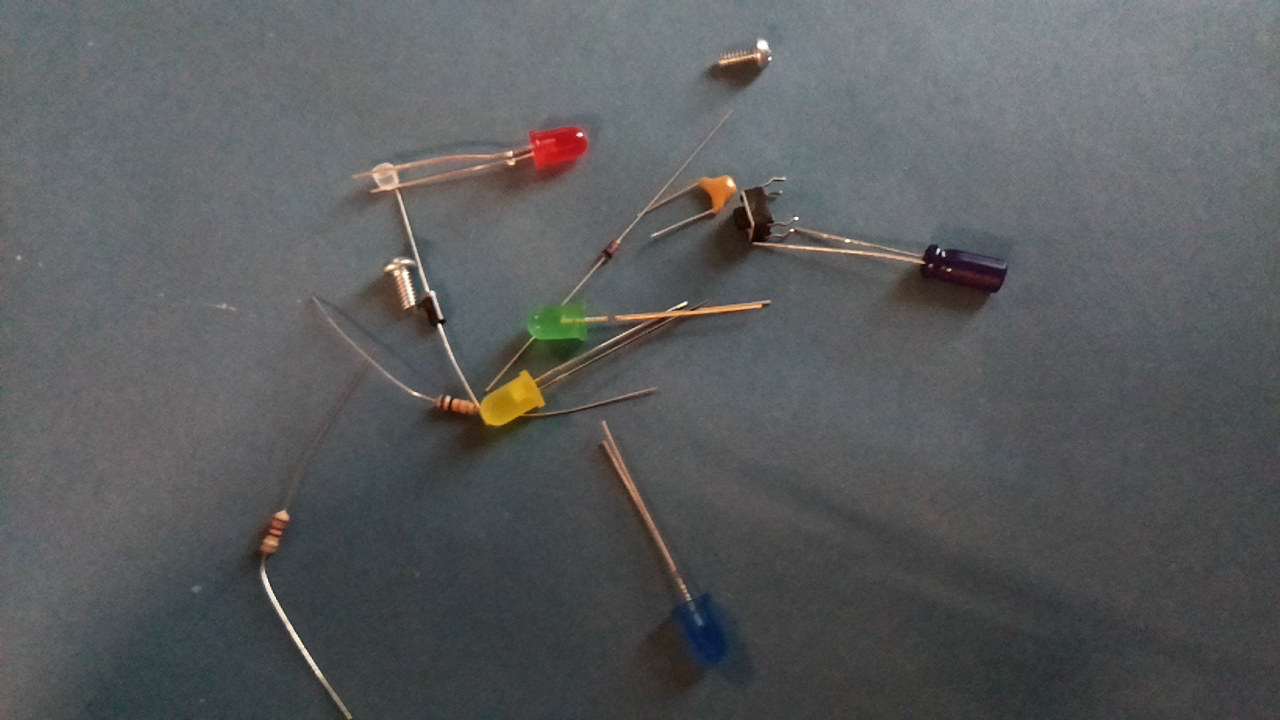button: (733, 184, 777, 248)
capacitor: (917, 243, 1011, 296), (689, 171, 739, 223)
diode: (417, 287, 449, 330), (600, 235, 623, 262)
led: (668, 591, 733, 670), (477, 369, 550, 430), (523, 123, 595, 170), (523, 299, 589, 344)
resistor: (255, 509, 291, 559), (433, 392, 482, 423)
